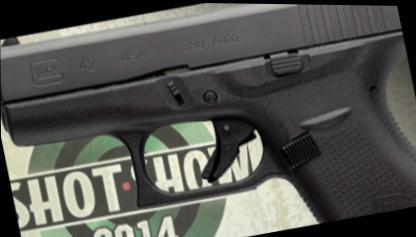pistol: (0, 0, 415, 235)
